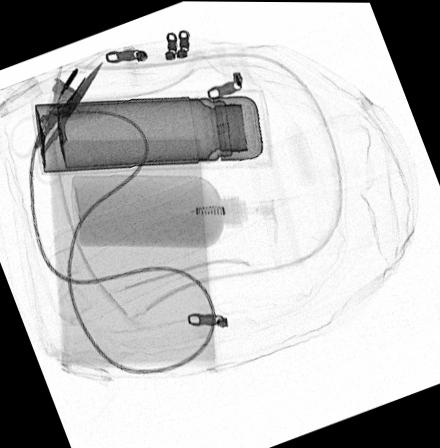Scissors: (7, 59, 101, 183)
